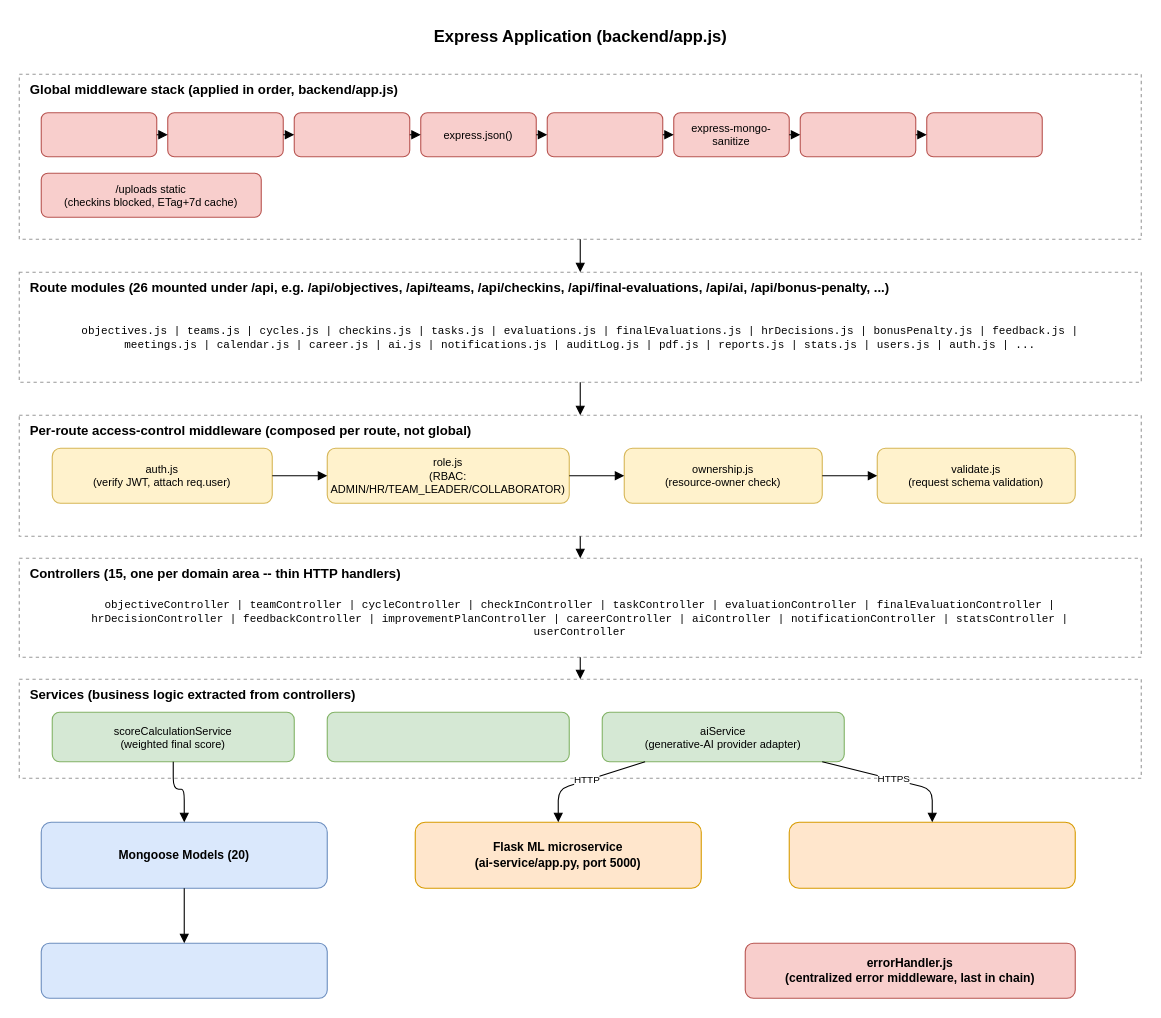
Image size: 1161x1018. Some labels were removed from this diagram. Each missing label, with the box of its shape:
compression(): (293, 112, 410, 157)
cors() (origin allow-list): (167, 112, 283, 157)
express-rate-limit (5000/15min): (926, 112, 1042, 157)
External generative-AI providers (LLM APIs): (788, 821, 1075, 888)
helmet(): (40, 112, 157, 157)
MongoDB: (40, 942, 327, 998)
no-cache headers: (799, 112, 916, 157)
reviewContextService (evidence summary): (326, 711, 569, 762)
xss-clean: (546, 112, 663, 157)
